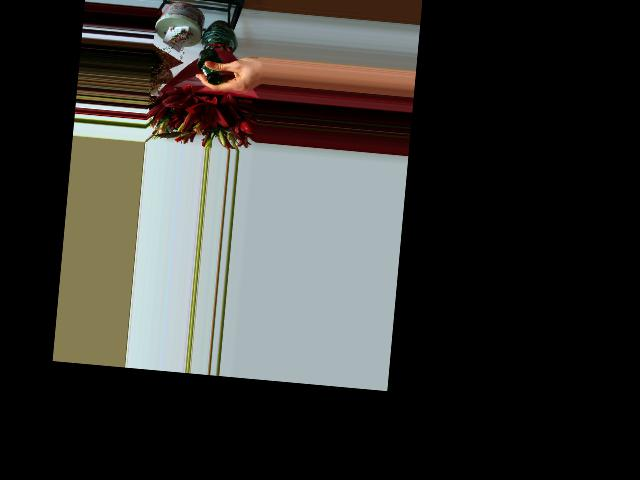beer: (196, 47, 225, 85)
